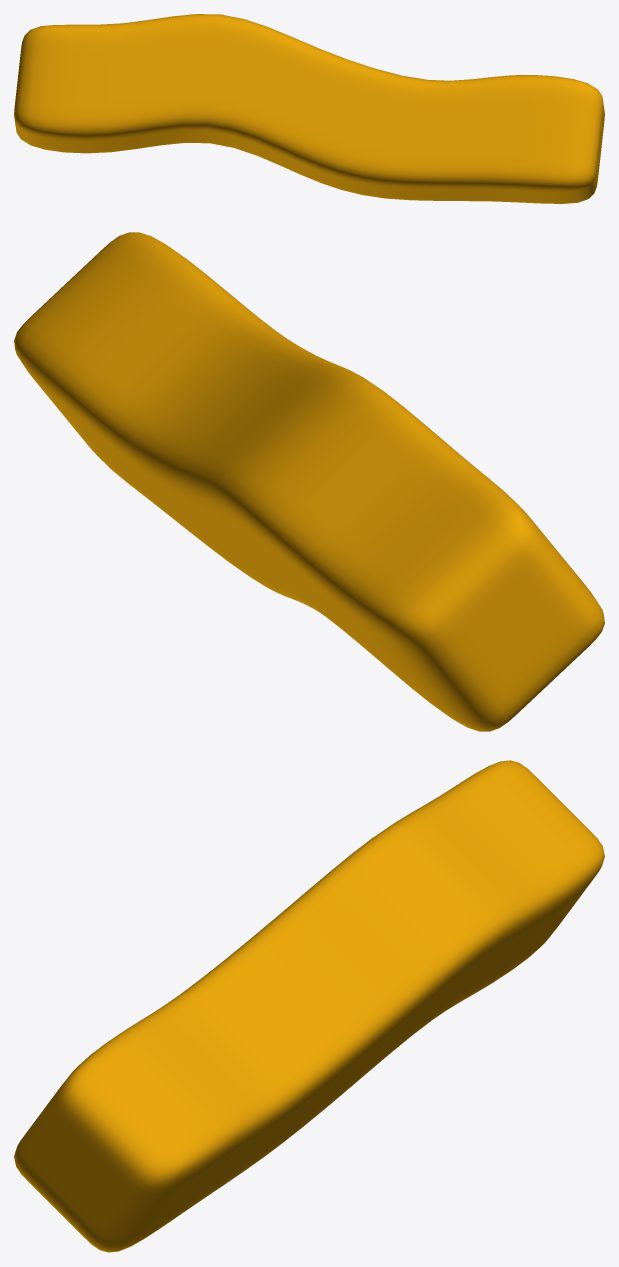
File: potato-single.glb
3 views of the same model, one above another, from view 1: azimuth 30°, elevation 25°; view 2: azimuth 150°, elevation 25°; view 3: azimuth 270°, elevation 25° (orthographic). The views are drawn at different scales.
Parts seen in each view (by area): view 1: potato_single; view 2: potato_single; view 3: potato_single.
Boxes of the visible parts, x1,y1,x2,y2 form: potato_single: (14,14,604,203); potato_single: (14,232,604,731); potato_single: (14,760,604,1252).
Bounding box in the file's own units: 0.1378 × 0.0498 × 0.1088.
